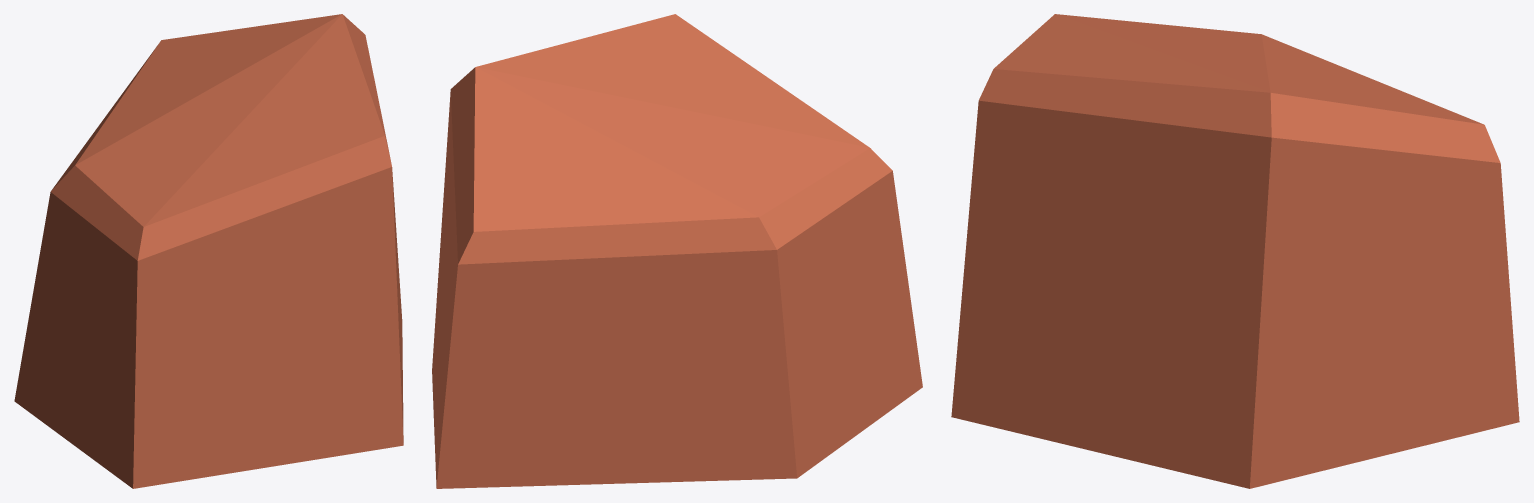
The model's file is Rock_Mesa_Medium_9.fbx.
The picture shows the model from 3 angles, left to right: view 1: azimuth 30°, elevation 25°; view 2: azimuth 150°, elevation 25°; view 3: azimuth 270°, elevation 25°; orthographic projection. The views are drawn at different scales.
Visible parts, largest first — view 1: Rock; view 2: Rock; view 3: Rock.
Part boxes in pixels (x1,y1,x2,y2): Rock: [14, 14, 403, 488]; Rock: [432, 14, 922, 488]; Rock: [951, 14, 1519, 488].
Bounding box in the file's own units: 48.73 × 39.37 × 54.92.
